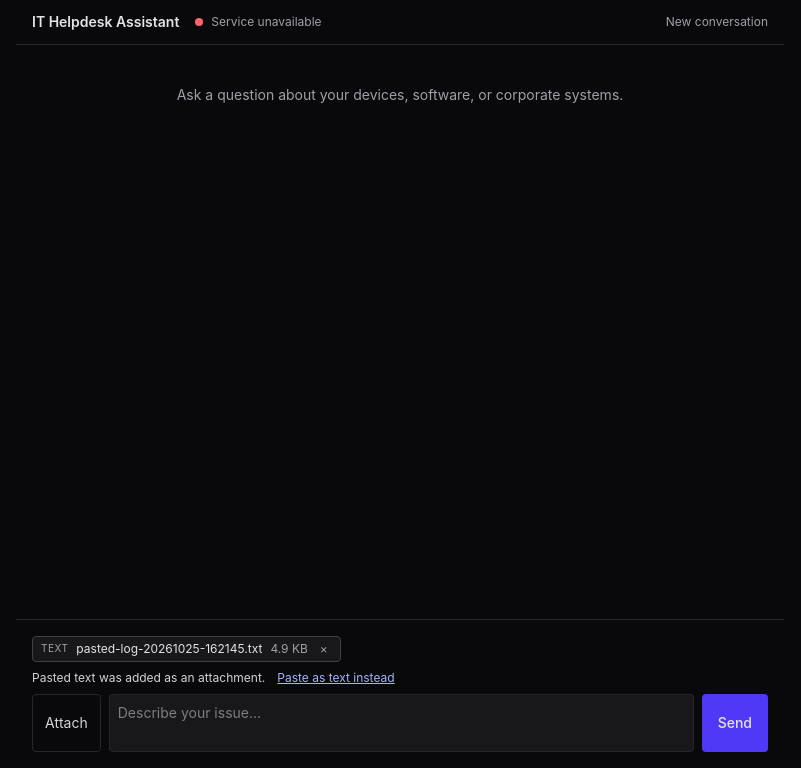
pasting text › stops a paste that is too long for a message at the message limit
Click the button "Paste as text instead" at (336, 678), box [277,670,395,686]
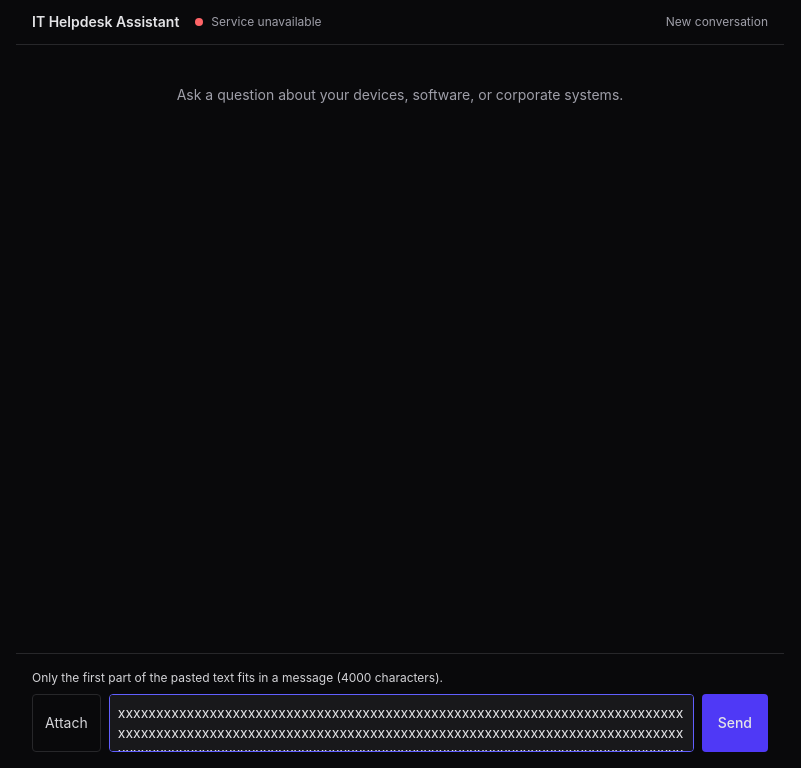
Expected: the message "Only the first part of the pasted text fits in a message (4000 characters)." is shown, [32,670,443,685]
